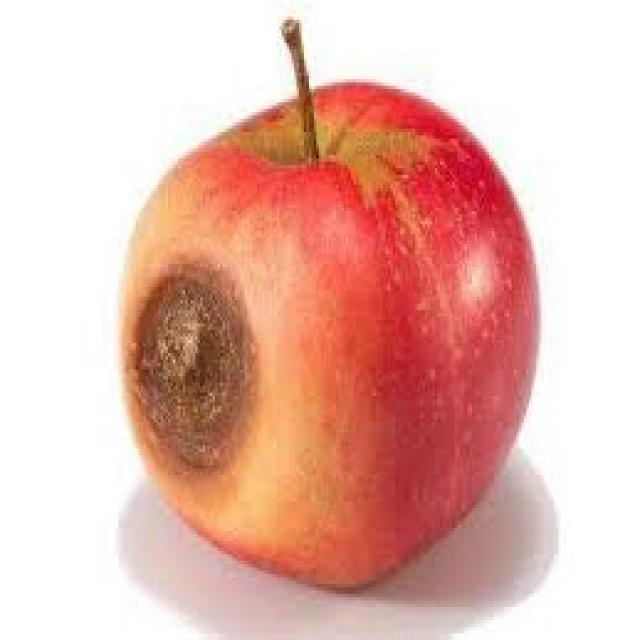organic waste: (119, 17, 538, 587)
